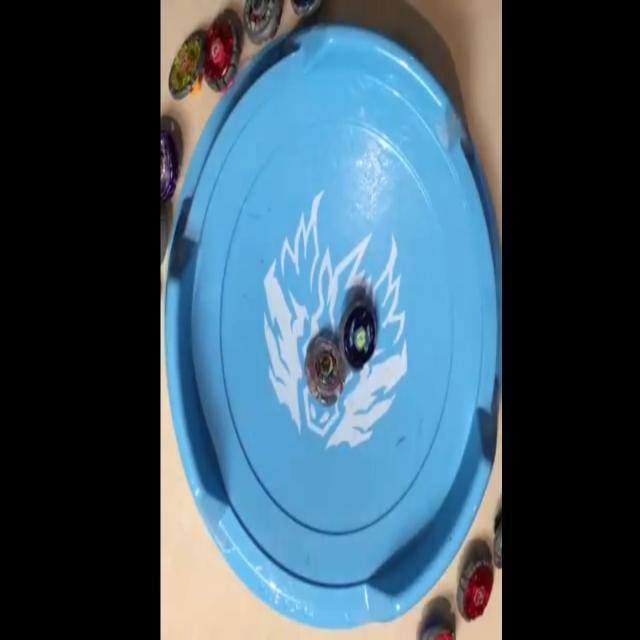Beyblade: (201, 16, 241, 93), (456, 550, 495, 624), (338, 300, 377, 372), (306, 336, 346, 404), (168, 31, 204, 102), (243, 0, 283, 46)
